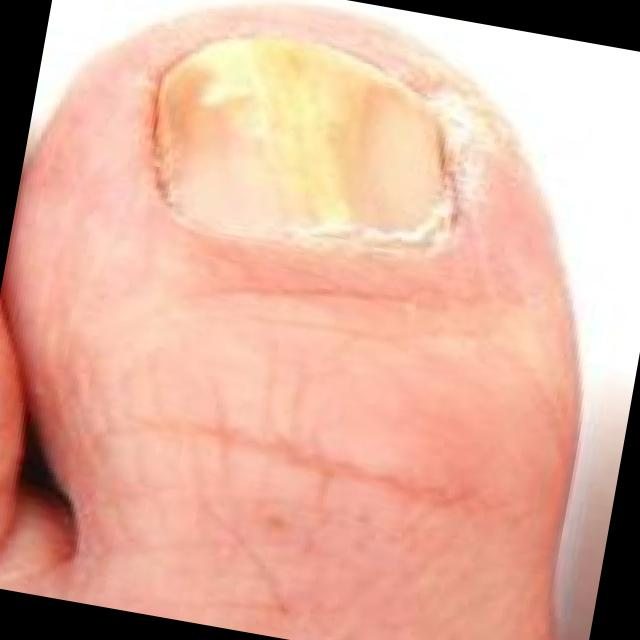Nail: (158, 35, 455, 248)
